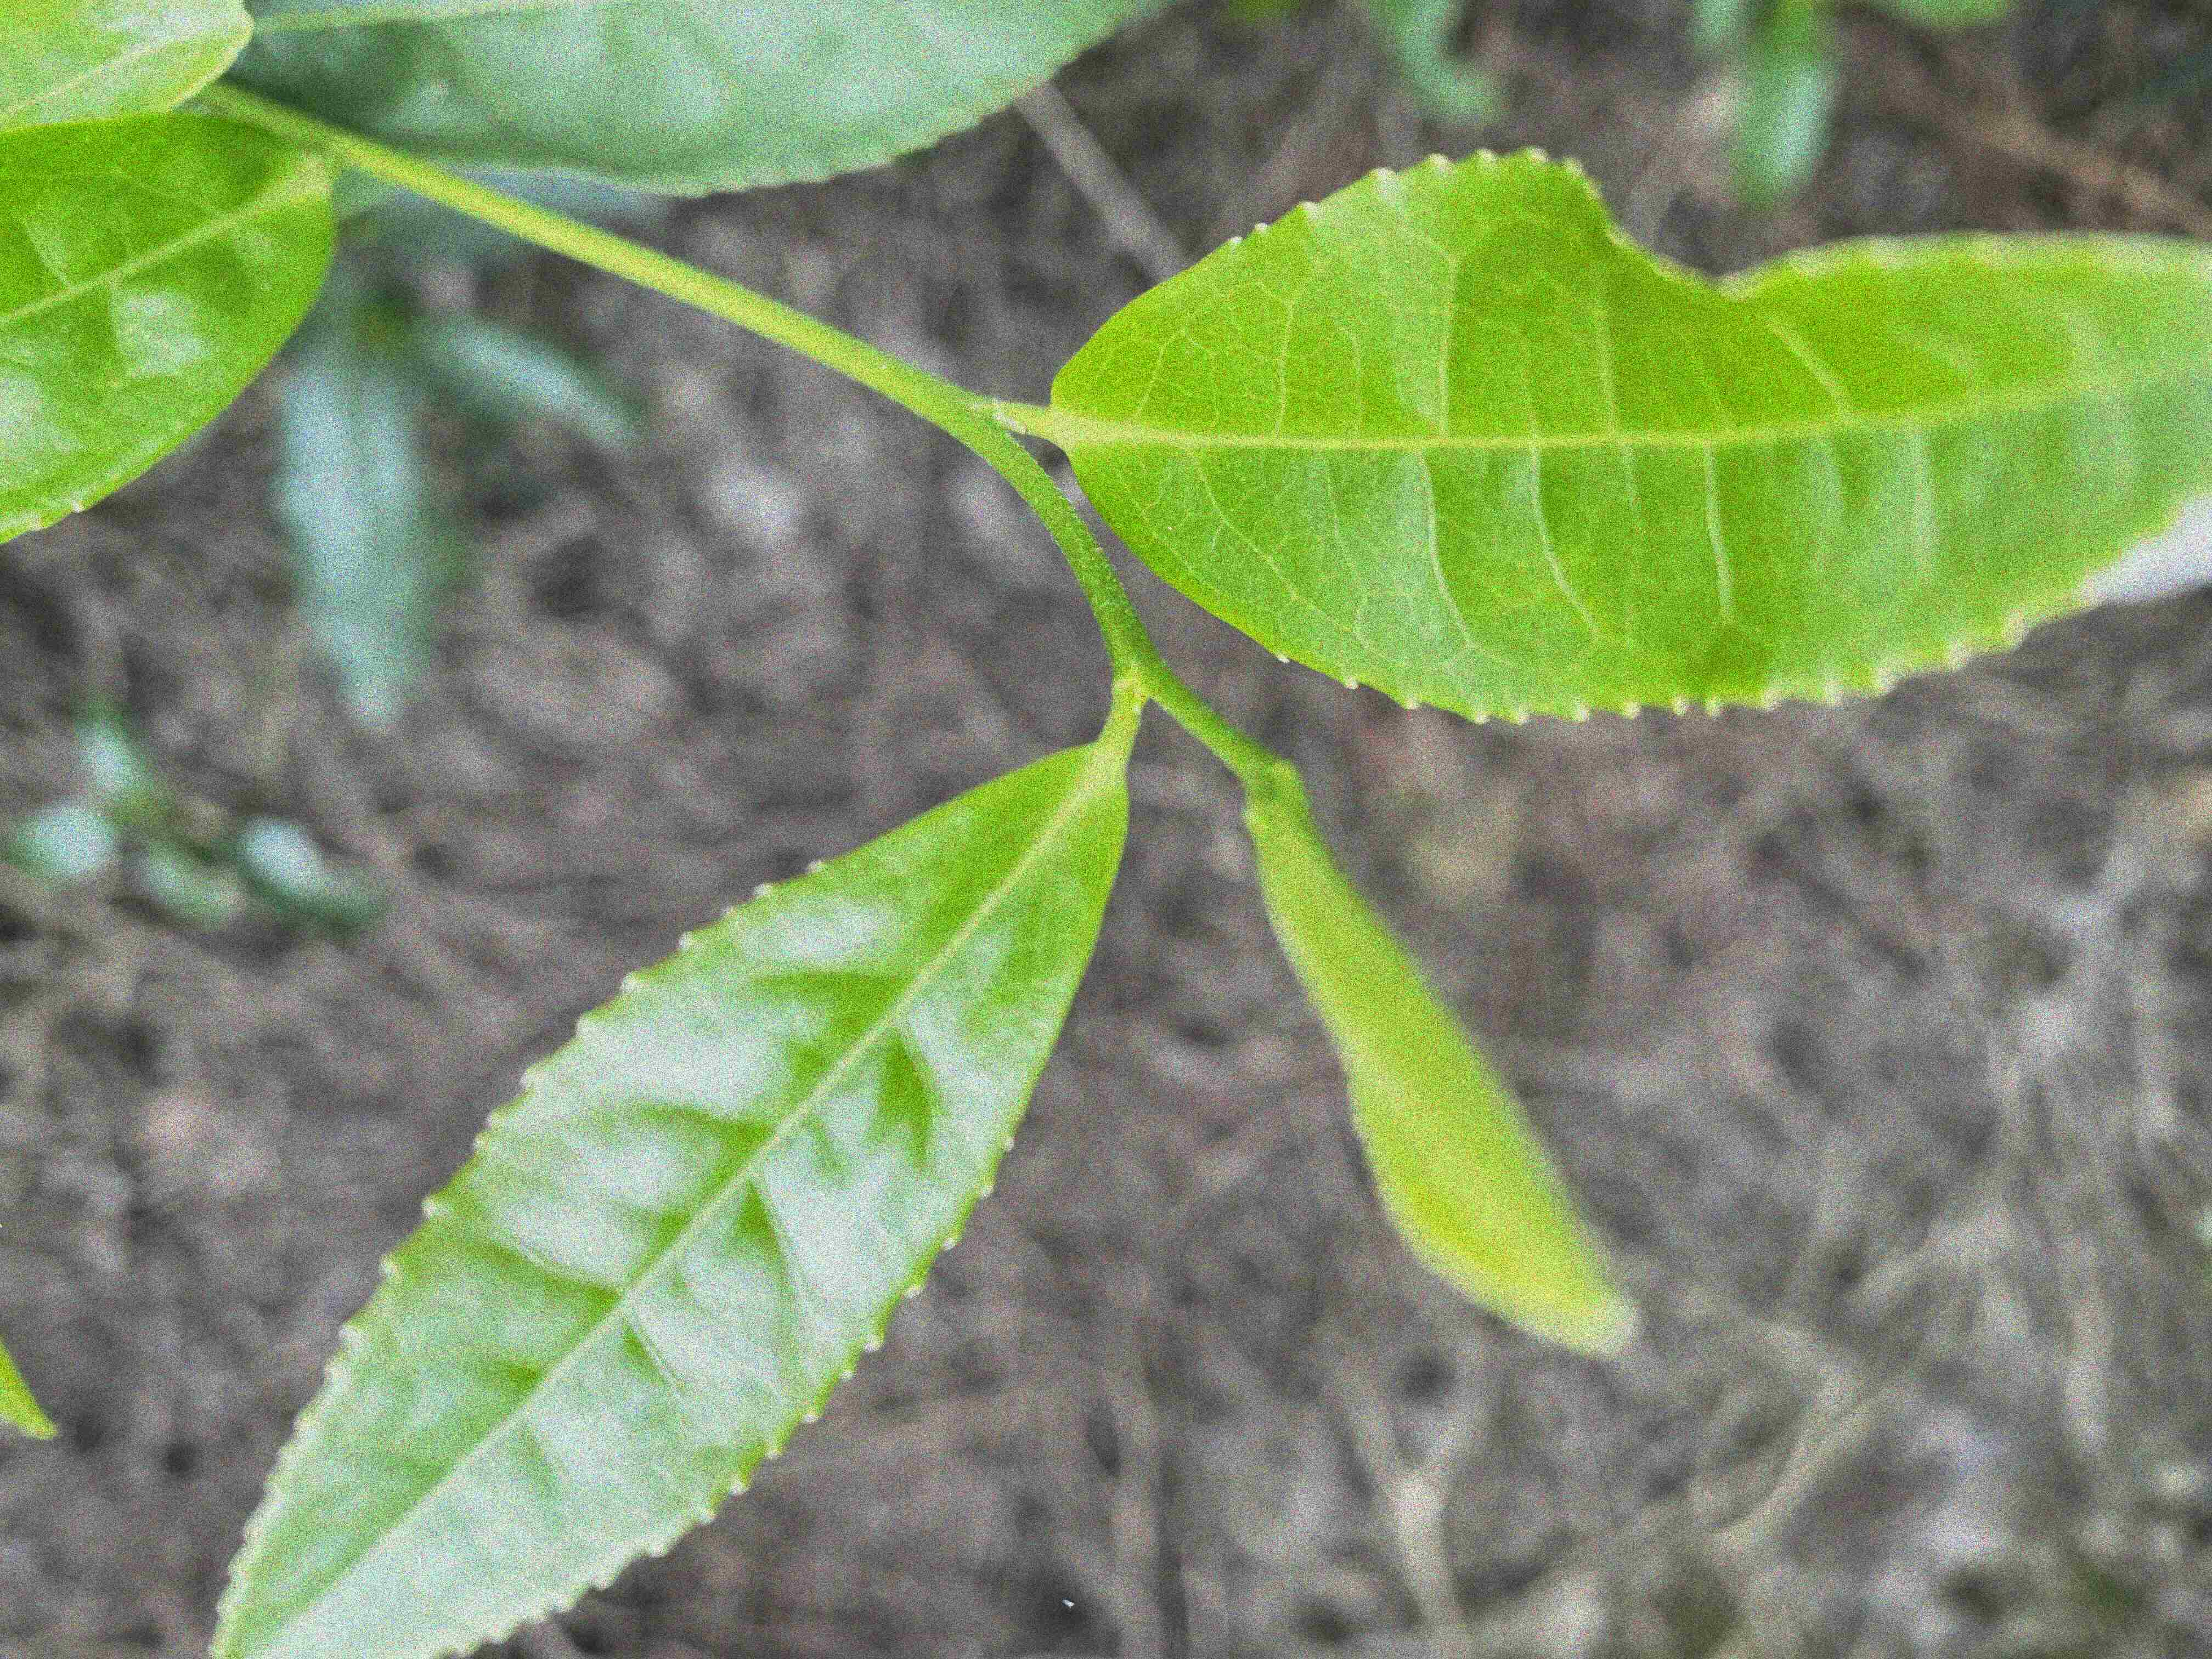healthy: (206, 744, 1130, 1656), (1035, 150, 2209, 728)
